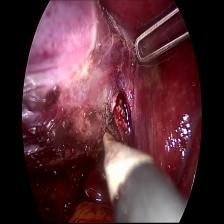Grasper: (132, 2, 191, 69)
Hook: (98, 116, 154, 196)
